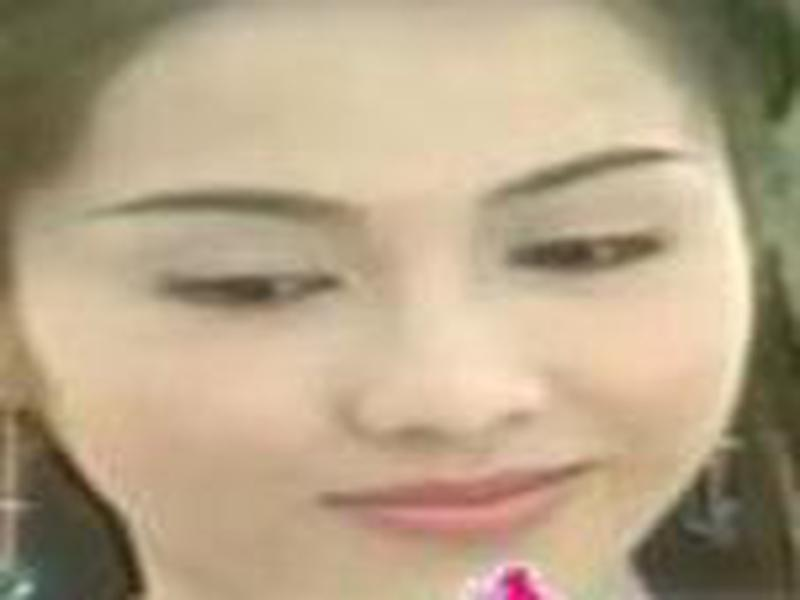without_mask: (24, 22, 747, 595)
